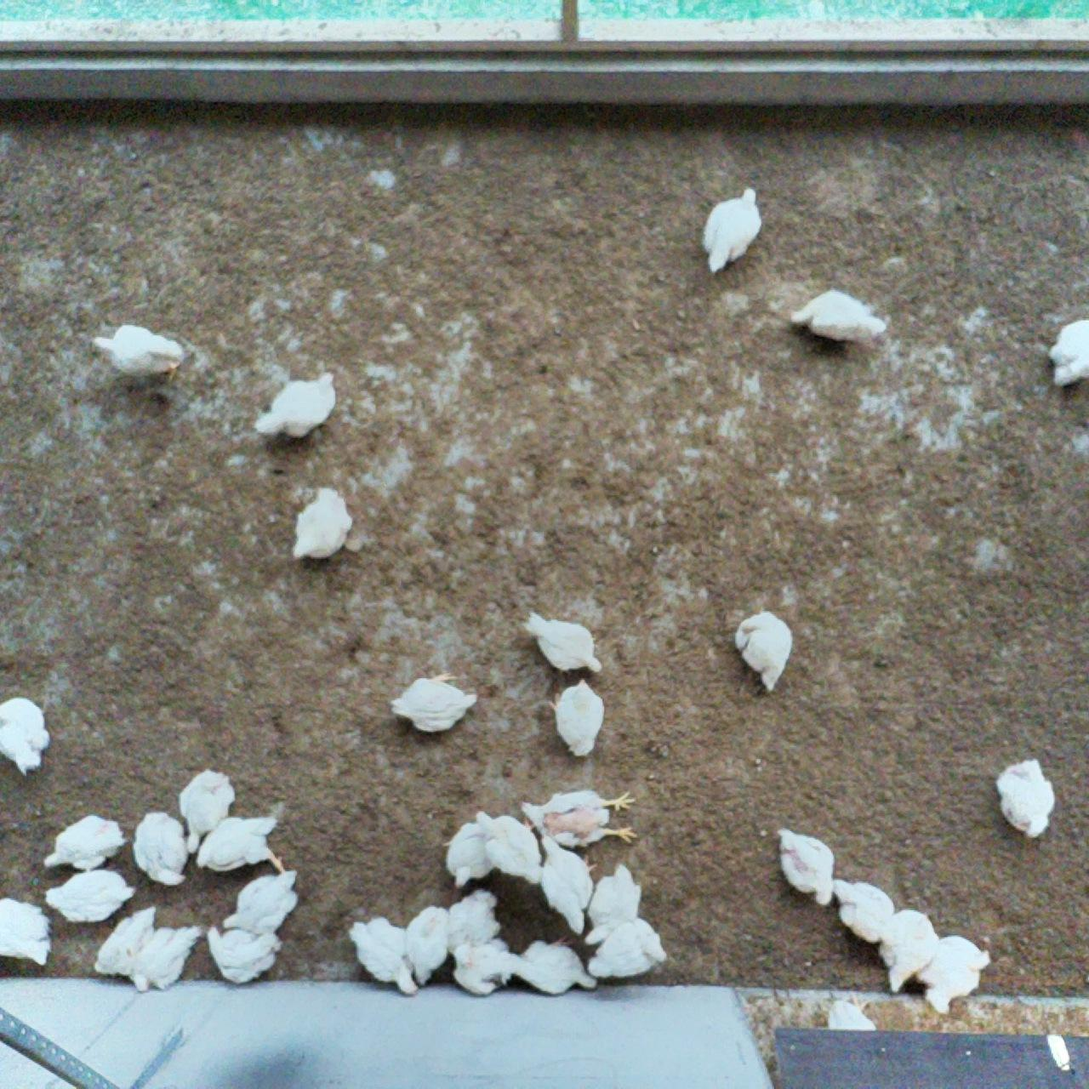chicken: (517, 787, 641, 852), (252, 369, 340, 445), (534, 831, 598, 935), (386, 667, 481, 737), (194, 812, 292, 879), (698, 181, 765, 277), (784, 285, 889, 346), (916, 932, 993, 1015), (502, 934, 600, 998), (347, 914, 421, 998), (92, 319, 187, 384), (222, 868, 301, 941), (732, 608, 797, 696), (174, 766, 237, 856), (877, 906, 940, 995), (993, 755, 1057, 842), (544, 675, 608, 762), (520, 608, 603, 675), (44, 868, 138, 927), (127, 925, 205, 995), (472, 807, 542, 885), (773, 826, 838, 908), (290, 483, 354, 566), (586, 915, 667, 980), (42, 811, 128, 872), (582, 863, 645, 946), (130, 808, 194, 887), (92, 905, 160, 978), (206, 919, 282, 984), (830, 874, 898, 943), (446, 888, 503, 969), (0, 693, 54, 775), (0, 895, 54, 972), (452, 934, 514, 998), (405, 903, 451, 989), (444, 820, 495, 888), (1047, 316, 1089, 390), (826, 989, 878, 1032)
